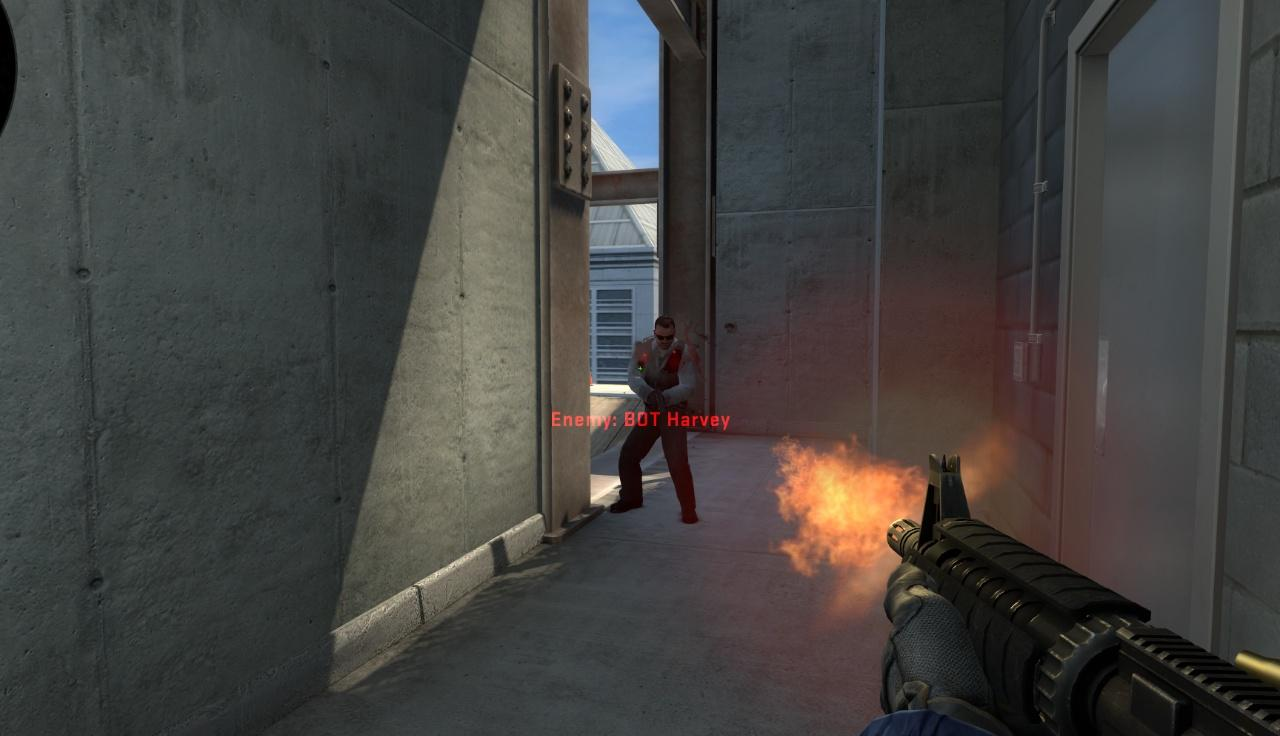rifle: (865, 453, 1280, 736)
tt: (627, 317, 695, 512)
tthead: (654, 319, 677, 348)
